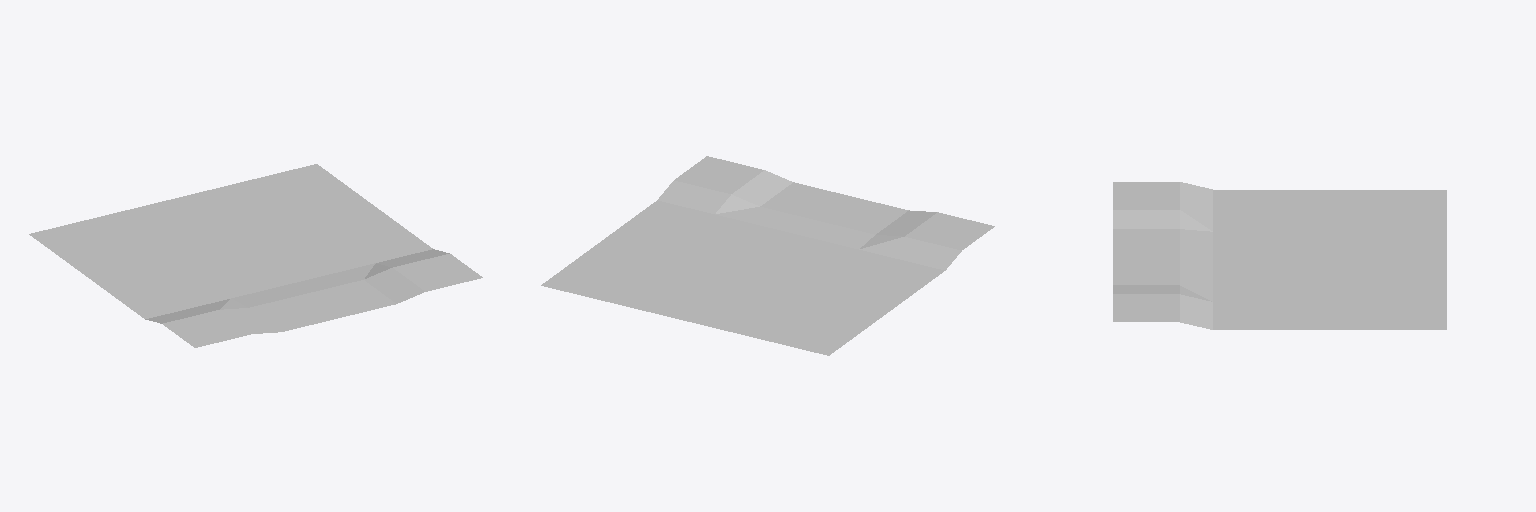
Rendered from path_transition.obj.
3 views of the same model, side by side, from view 1: azimuth 30°, elevation 25°; view 2: azimuth 150°, elevation 25°; view 3: azimuth 270°, elevation 25° (orthographic).
Parts seen in each view (by area): view 1: ground_straightPath_geo; view 2: ground_straightPath_geo; view 3: ground_straightPath_geo.
Boxes of the visible parts, box(x1,y1,x2,y2) form: ground_straightPath_geo: box(29, 164, 482, 347); ground_straightPath_geo: box(541, 156, 994, 355); ground_straightPath_geo: box(1113, 182, 1446, 329).
Bounding box in the file's own units: 6 × 0.1551 × 6.